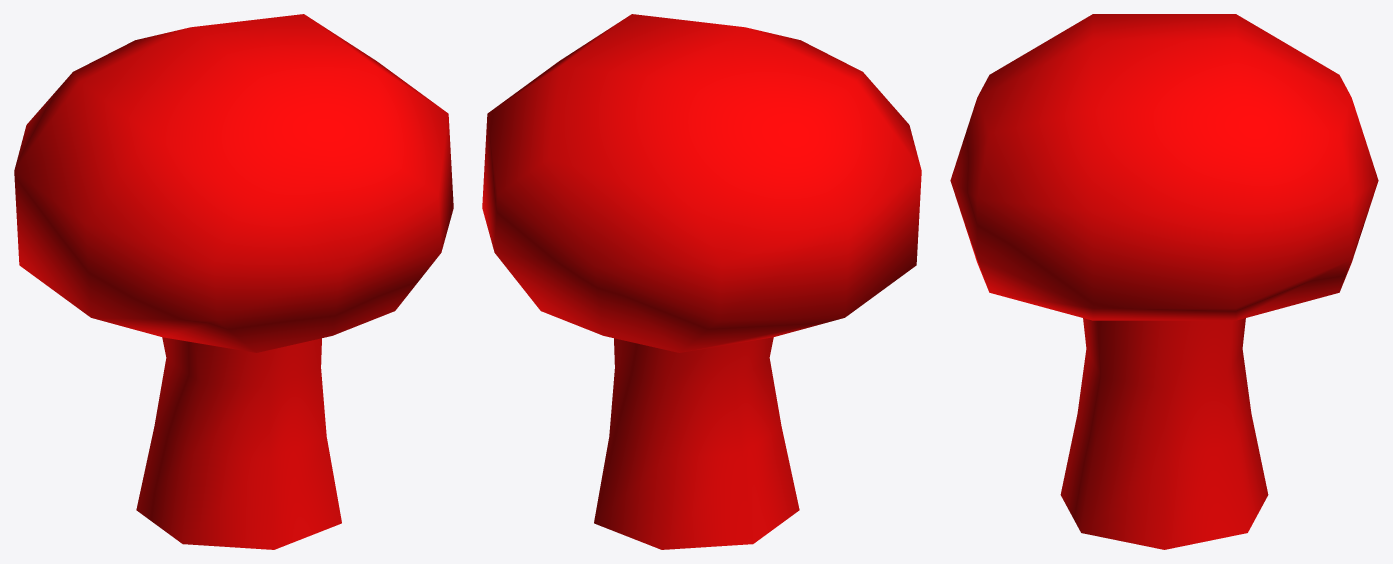
The model's file is Mushroom.FBX.
3 views of the same model, side by side, from view 1: azimuth 30°, elevation 25°; view 2: azimuth 150°, elevation 25°; view 3: azimuth 270°, elevation 25° (orthographic).
Visible parts, largest first — view 1: Mushroom; view 2: Mushroom; view 3: Mushroom.
Boxes of the visible parts, <box> form: Mushroom: <box>14,14,453,549</box>; Mushroom: <box>482,14,921,549</box>; Mushroom: <box>950,14,1378,549</box>.
Size of the model in its own units: 21.2 by 25.18 by 21.41.
